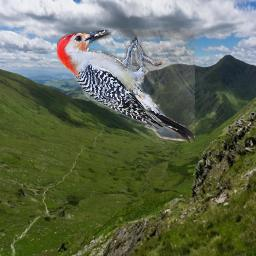Woodpecker: (57, 30, 195, 143)
